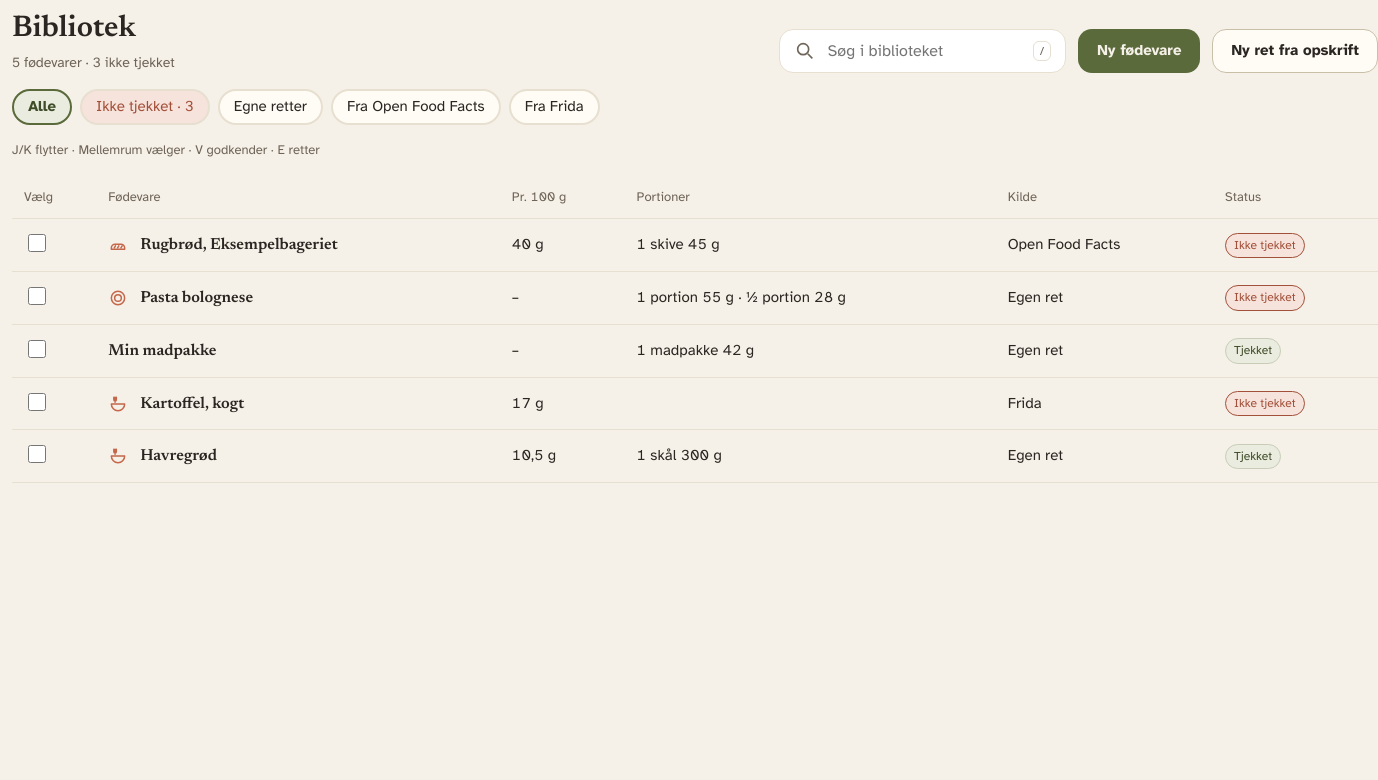
Test: Bibliotek on desktop (Bibliotek-Desktop) › removes the selected rows after one confirmation
Expected: the number of rows is 6, [12,176,1377,219]; [12,219,1377,272]; [12,272,1377,324]; [12,324,1377,377]; [12,377,1377,430]; [12,430,1377,483]
Click the checkbox named "Vælg Havregrød".
click(37, 454)  # box [28,446,46,464]
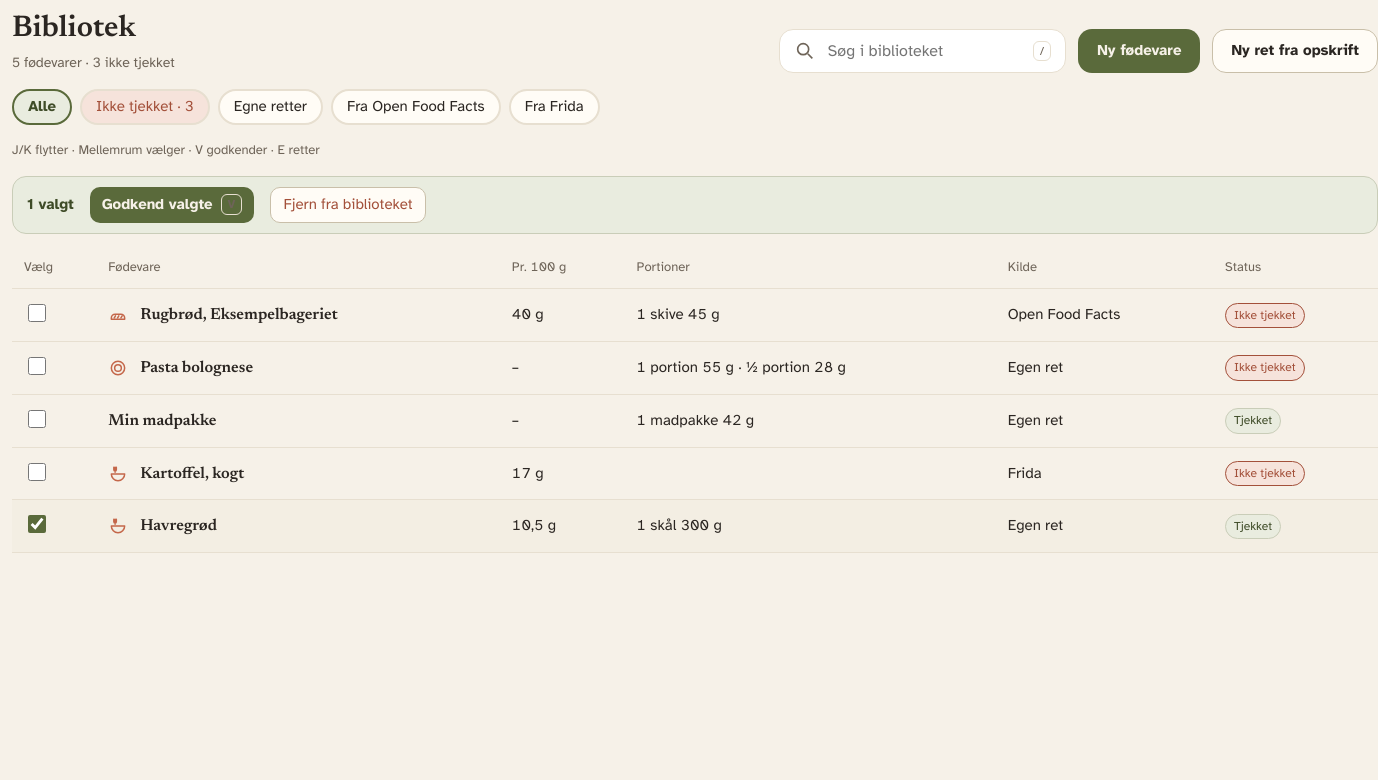
Click the button "Fjern fra biblioteket".
click(348, 205)  # box [270,187,426,223]
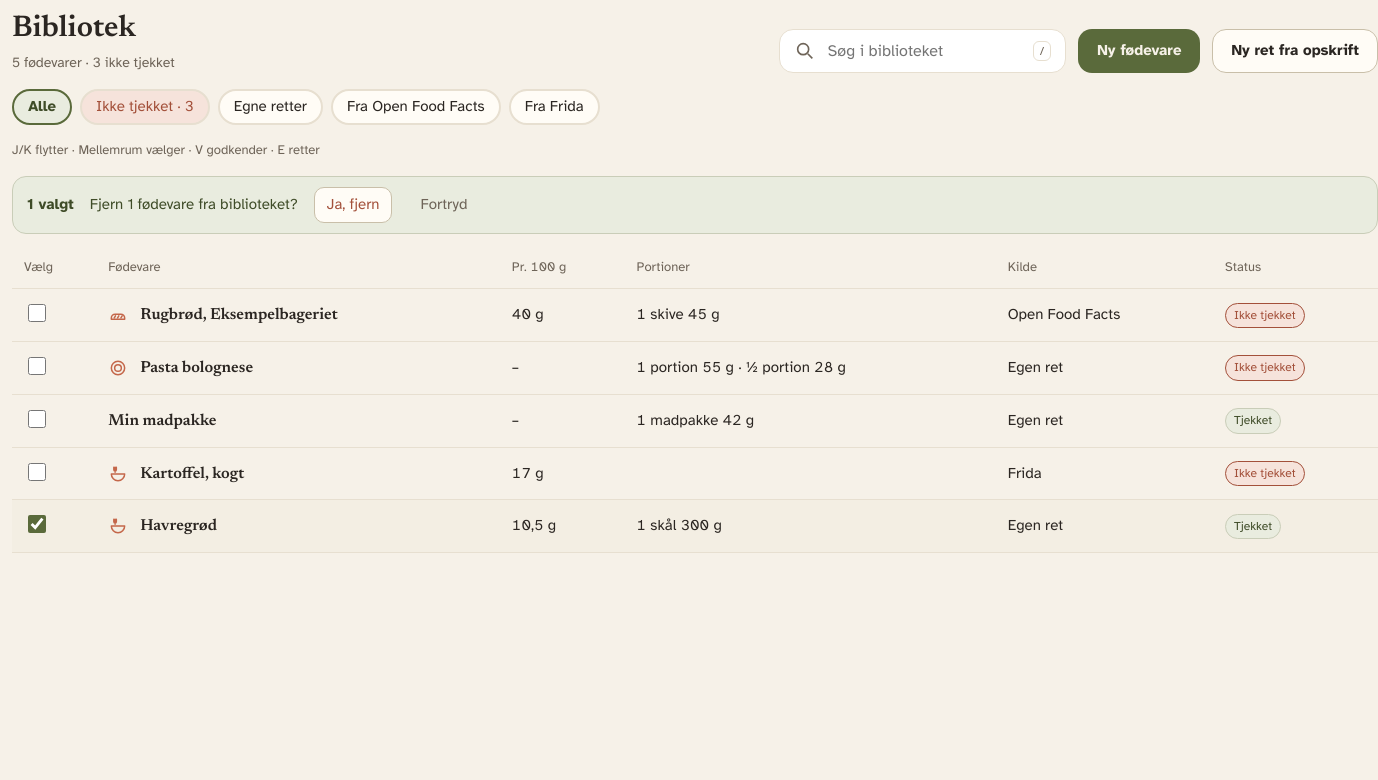
Click the button "Ja, fjern".
click(353, 205)  # box [314,187,392,223]
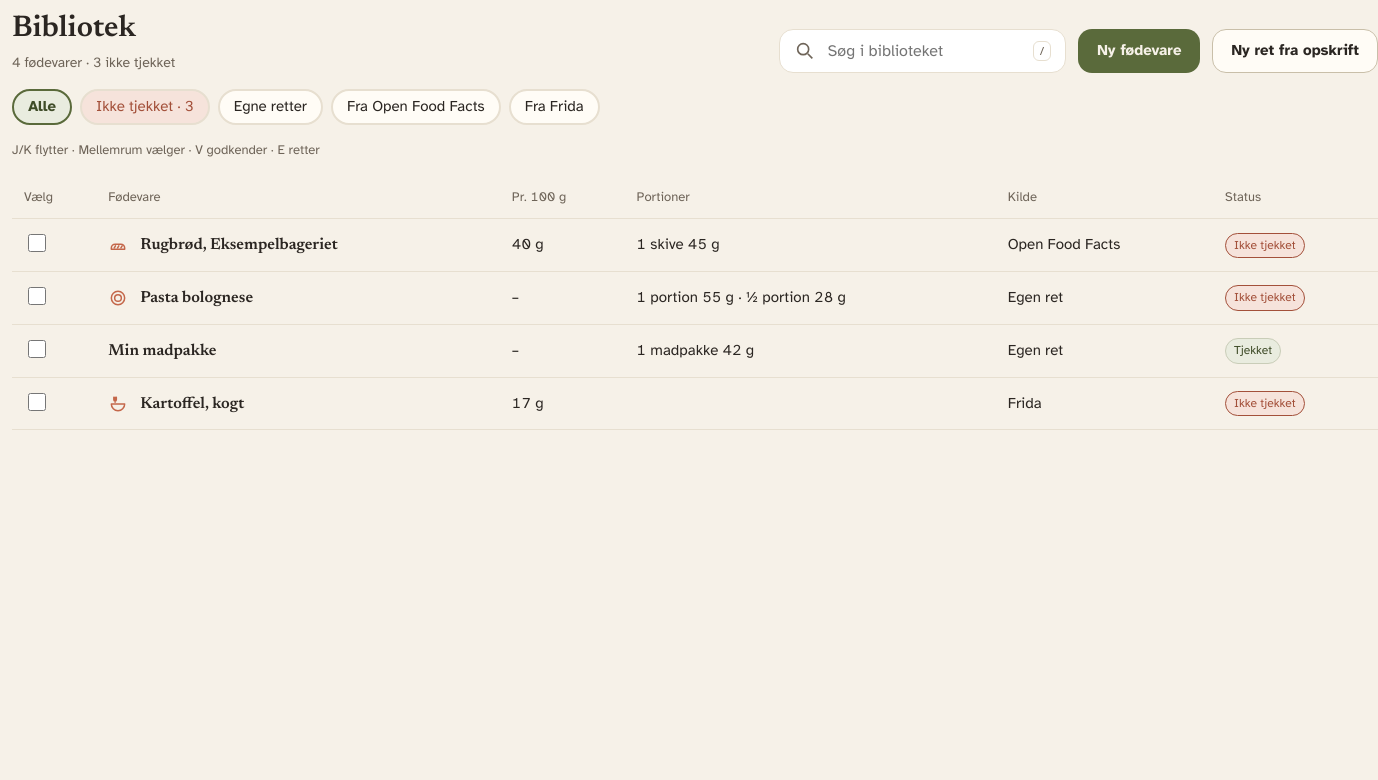
Expected: the number of rows is 5, [12,176,1377,219]; [12,219,1377,272]; [12,272,1377,324]; [12,324,1377,377]; [12,377,1377,430]
